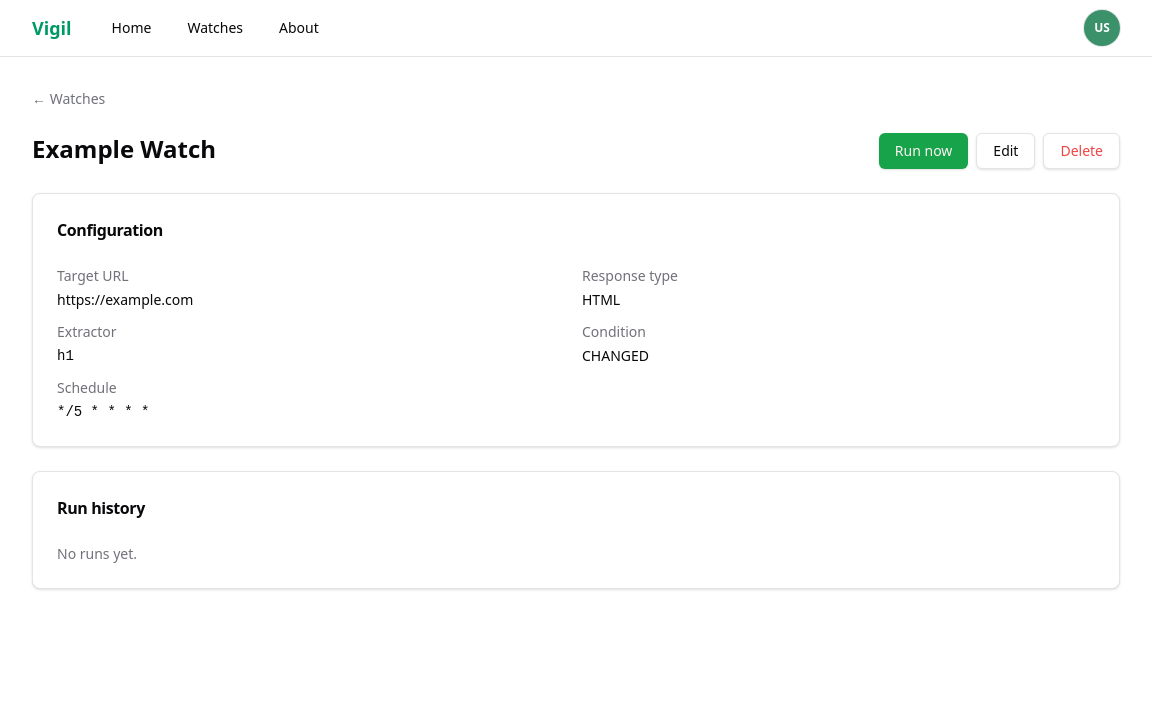
Delete Watch (detail page) › cancels deletion and hides confirmation when Cancel is clicked
The image size is (1152, 720).
Click the button "Delete": click(1082, 151) [1043,133,1120,169]
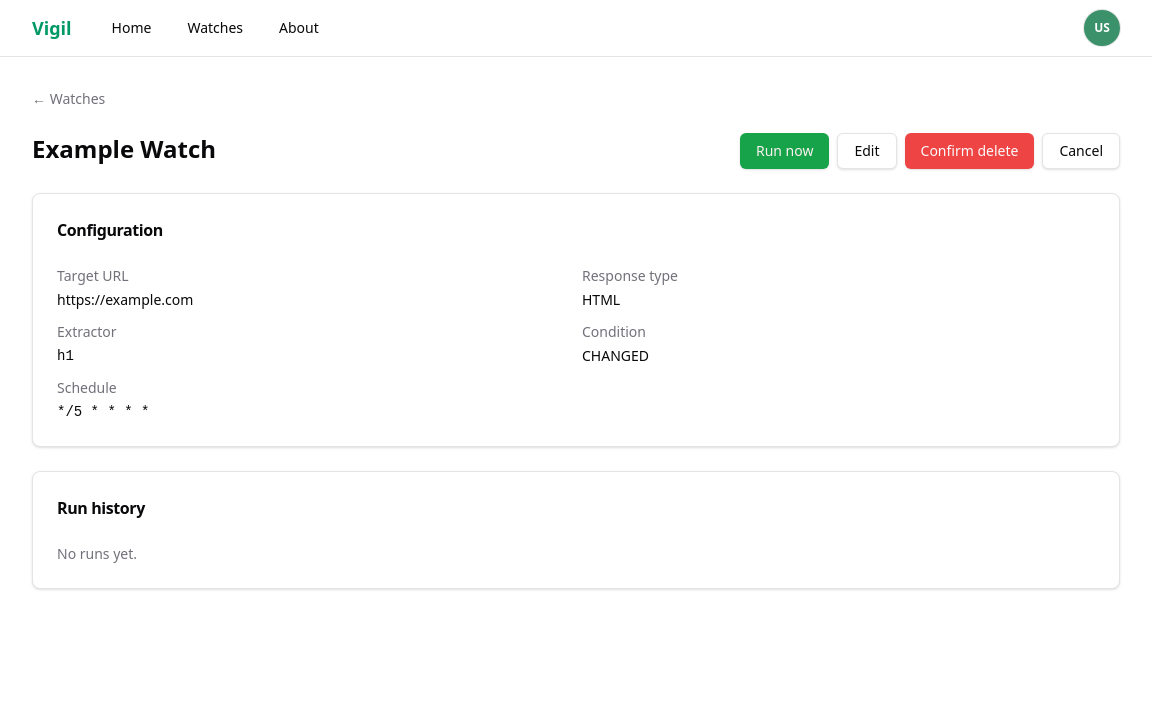
Check: the button "Cancel" is shown
Click the button "Cancel": click(1081, 151) [1042,133,1120,169]
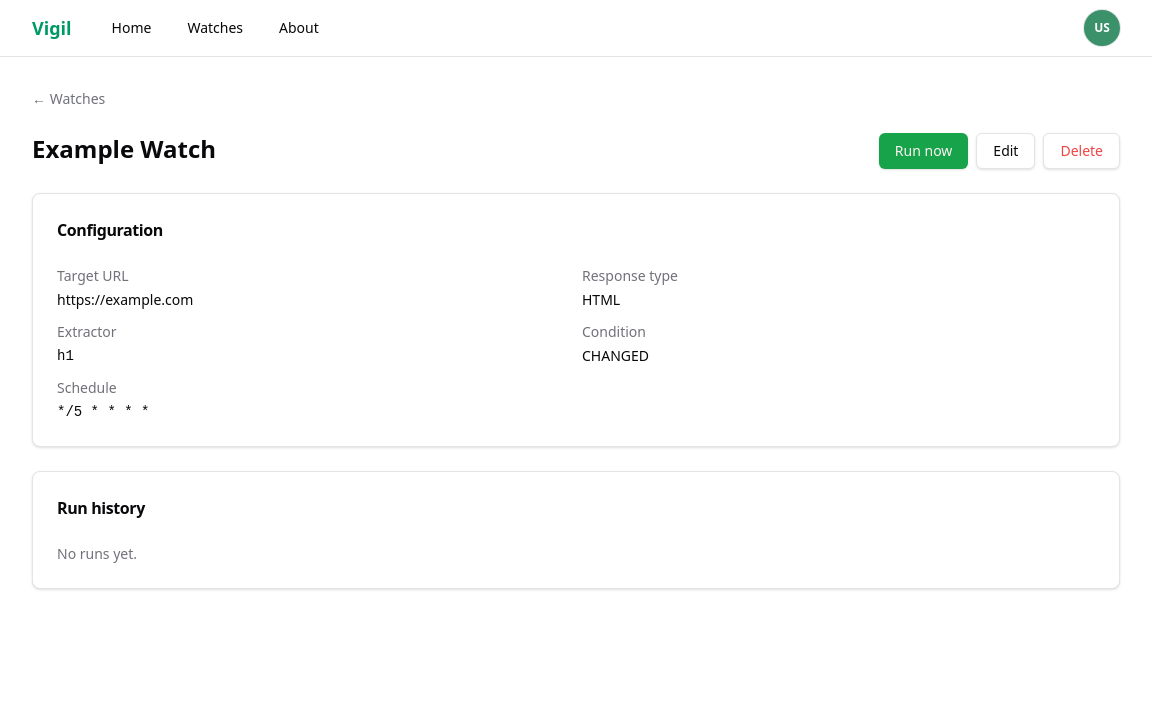
Check: the button "Confirm delete" is gone
